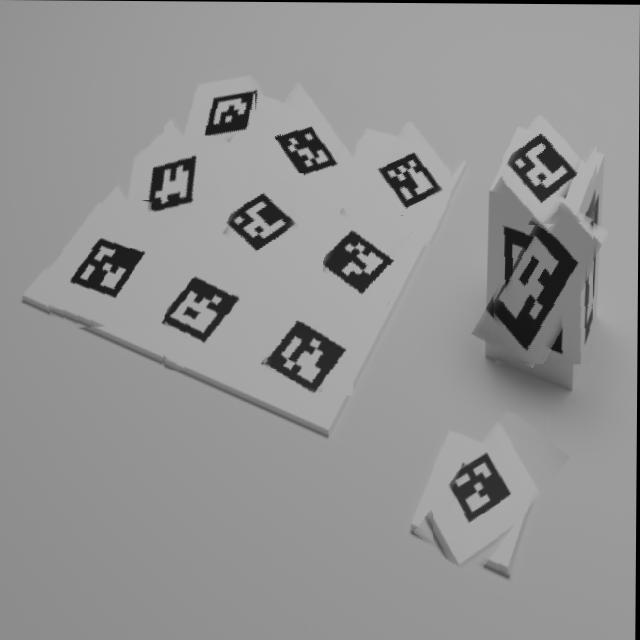aruco: (434, 412, 552, 575), (489, 199, 594, 364), (254, 71, 365, 200), (44, 202, 155, 329), (354, 121, 452, 249), (503, 97, 599, 226), (164, 48, 271, 155), (165, 246, 245, 371), (117, 135, 218, 232), (260, 292, 354, 395), (223, 172, 304, 276), (323, 209, 405, 301)
